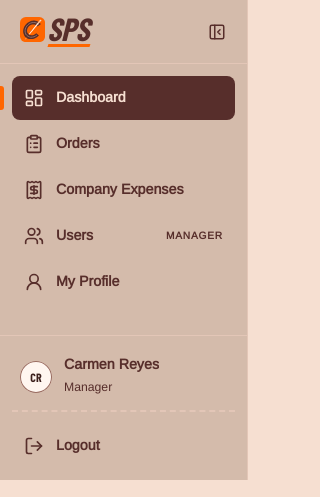
Test case: Sidebar collapse › collapses and expands from its toggle; the toggle name says what it will do, aria-expanded the state (D-41 R2-12)
This screenshot has width=320, height=497.
Click the button named "Collapse sidebar": (217, 32) [199,14,235,50]
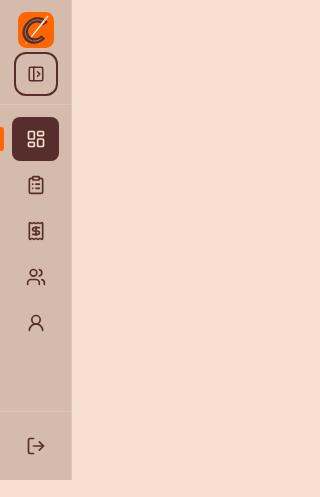
Result: the button named "Expand sidebar" is collapsed
Click the button named "Expand sidebar": (36, 74) [18,56,54,92]
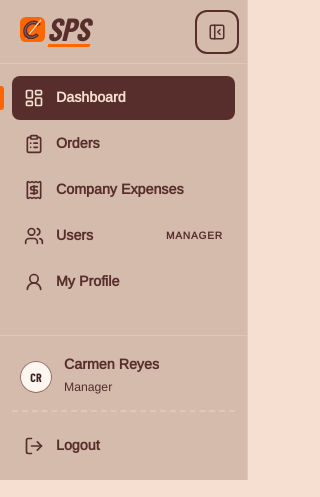
Result: the button named "Collapse sidebar" is expanded at [199,14,235,50]
